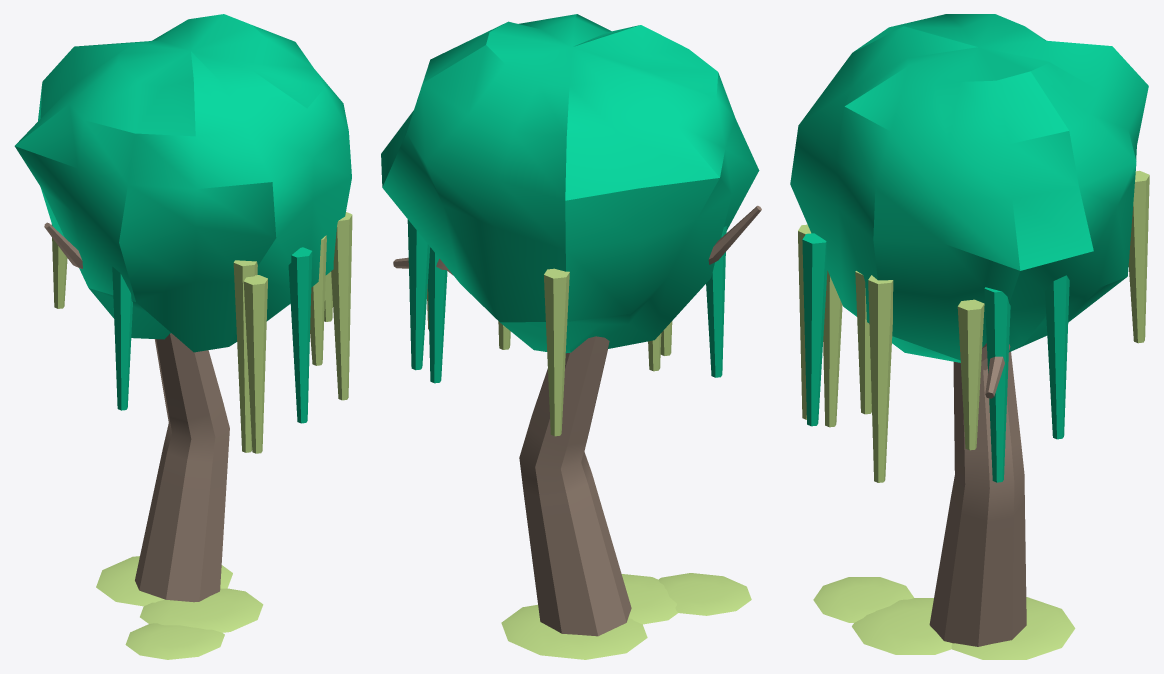
File: TW_MeltingTree.fbx
3 renders of one model, left to right at view 1: azimuth 30°, elevation 25°; view 2: azimuth 150°, elevation 25°; view 3: azimuth 270°, elevation 25°, orthographic. The views are drawn at different scales.
Visible parts, largest first — view 1: Body; view 2: Body; view 3: Body.
Part boxes in pixels (bbox=[...]): Body: bbox=[14, 14, 352, 659]; Body: bbox=[381, 14, 761, 659]; Body: bbox=[790, 14, 1149, 659].
Size of the model in its own units: 3.54 by 5.73 by 3.09.
